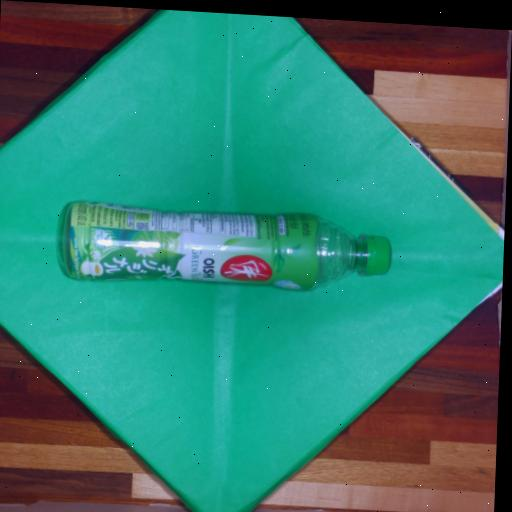bottle: (59, 202, 390, 290)
